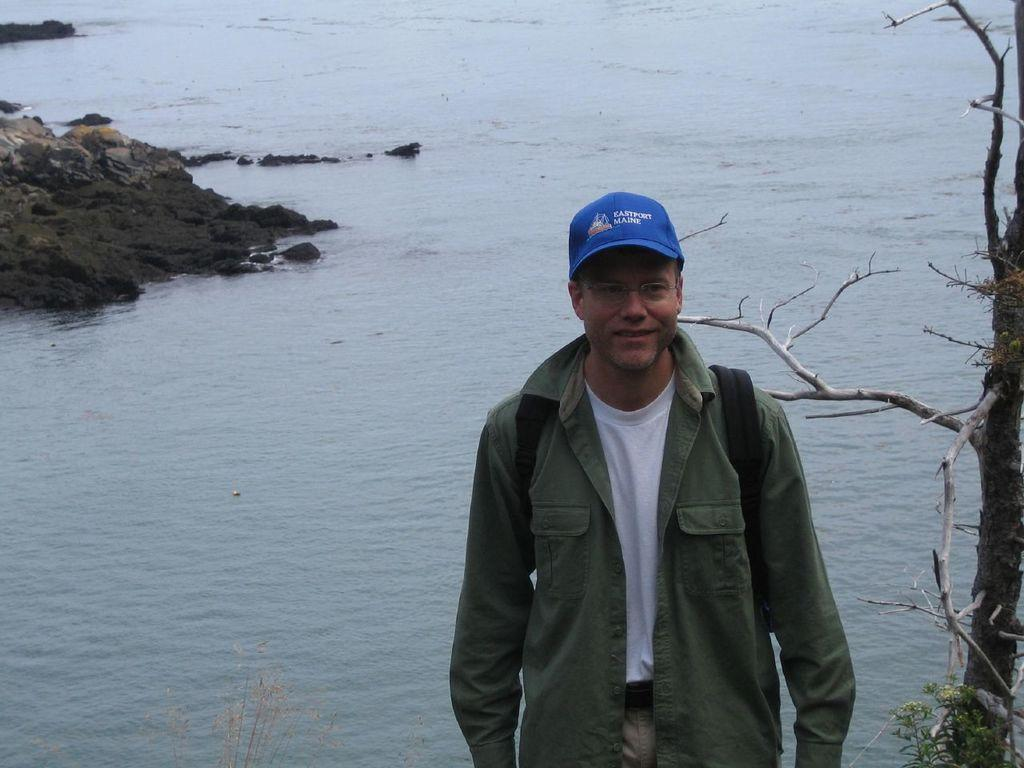Hat: (566, 186, 684, 280)
